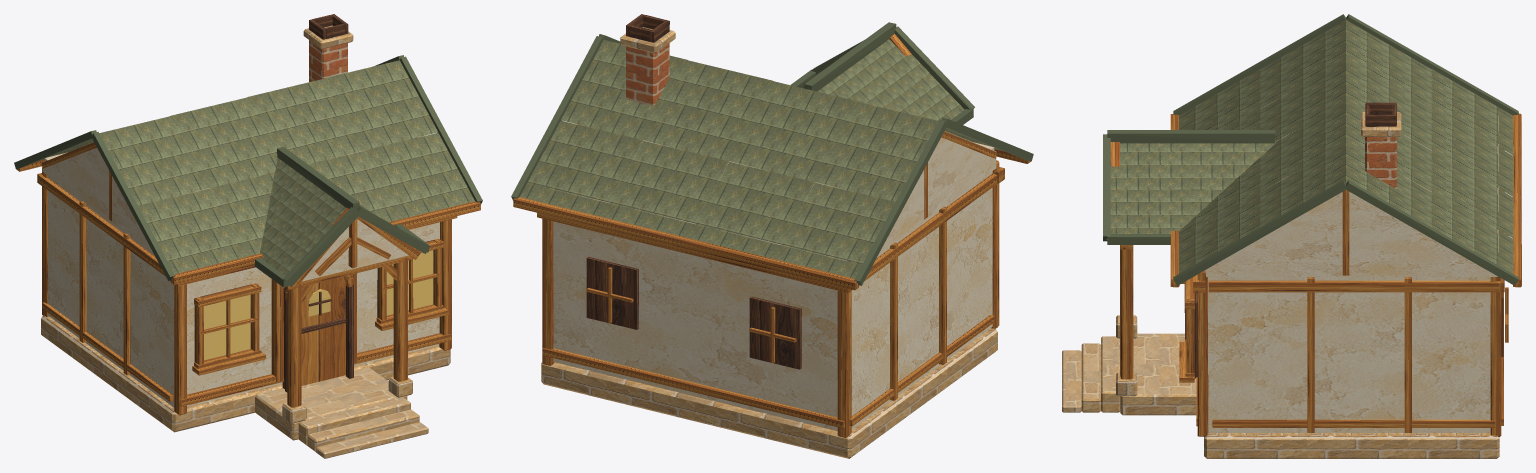
The model's file is HouseCozy_Lv1_LOD2.fbx.
The picture shows the model from 3 angles, left to right: view 1: azimuth 30°, elevation 25°; view 2: azimuth 150°, elevation 25°; view 3: azimuth 270°, elevation 25°; orthographic projection. The views are drawn at different scales.
Visible parts, largest first — view 1: HouseCozy_Lv1_LOD2; view 2: HouseCozy_Lv1_LOD2; view 3: HouseCozy_Lv1_LOD2.
Boxes of the visible parts, box(x1,y1,x2,y2) form: HouseCozy_Lv1_LOD2: box(14, 14, 482, 458); HouseCozy_Lv1_LOD2: box(511, 14, 1033, 458); HouseCozy_Lv1_LOD2: box(1062, 14, 1521, 458).
Size of the model in its own units: 10.28 by 9.28 by 11.82.
